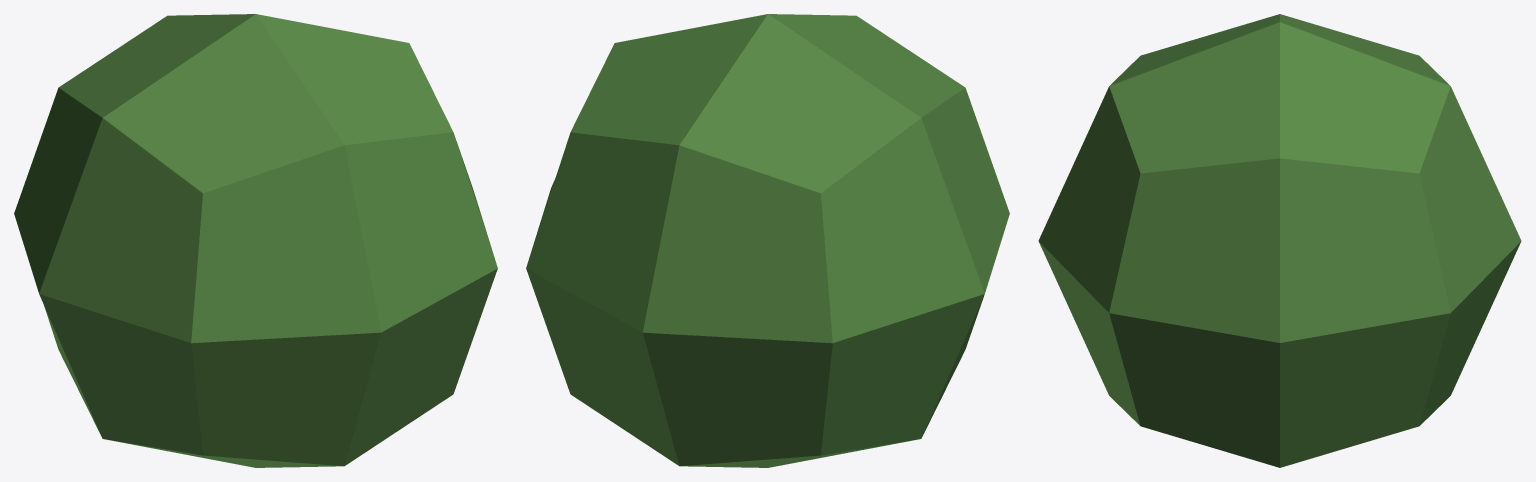
The model's file is Foliage.fbx.
3 renders of one model, left to right at view 1: azimuth 30°, elevation 25°; view 2: azimuth 150°, elevation 25°; view 3: azimuth 270°, elevation 25°, orthographic. The views are drawn at different scales.
Visible parts, largest first — view 1: Foliage; view 2: Foliage; view 3: Foliage.
Boxes of the visible parts, x1,y1,x2,y2 form: Foliage: (14, 14, 497, 467); Foliage: (526, 14, 1009, 467); Foliage: (1038, 14, 1521, 467).
Size of the model in its own units: 471 by 471 by 471.
